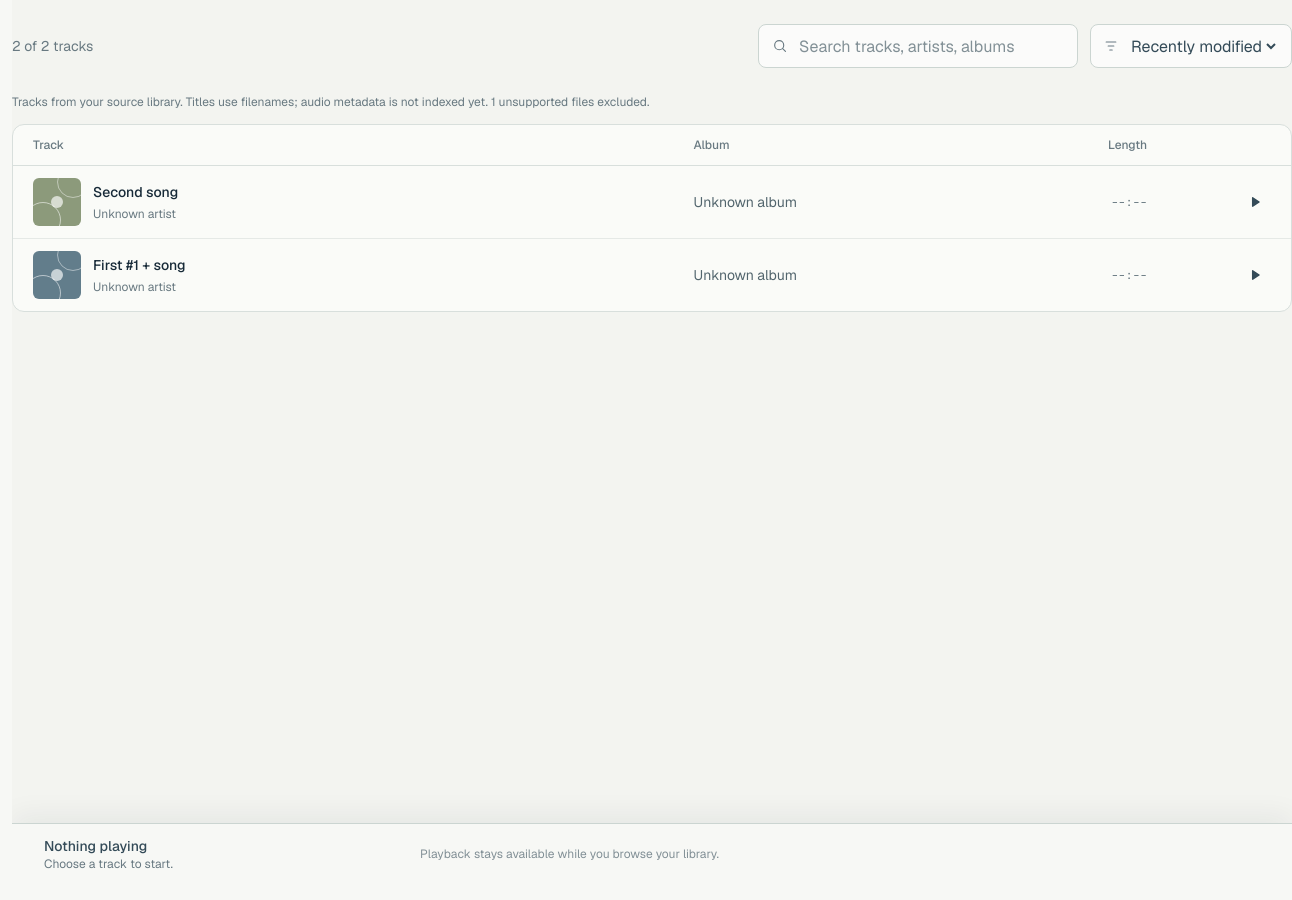
Test: private library › reports playback failures
Click the button named "Play ": (1255, 202) x1=1235 y1=182 x2=1275 y2=222
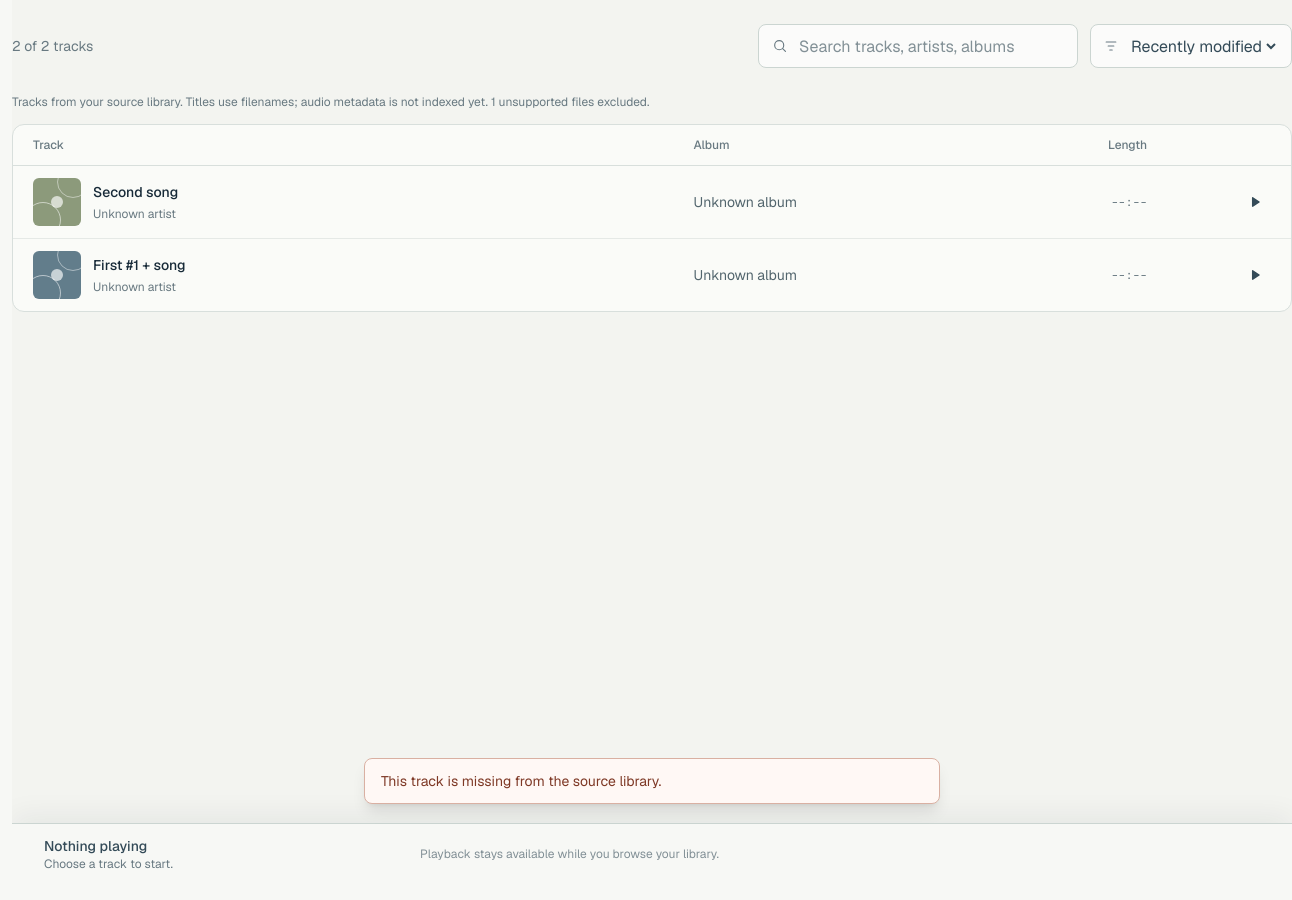
Now the message reads "This track is missing from the source library.", box x1=381 y1=772 x2=661 y2=790
